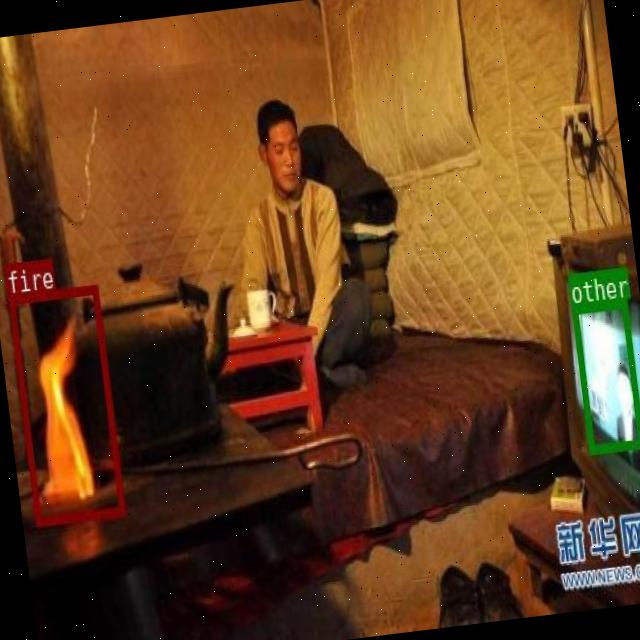fire: (6, 283, 124, 524)
